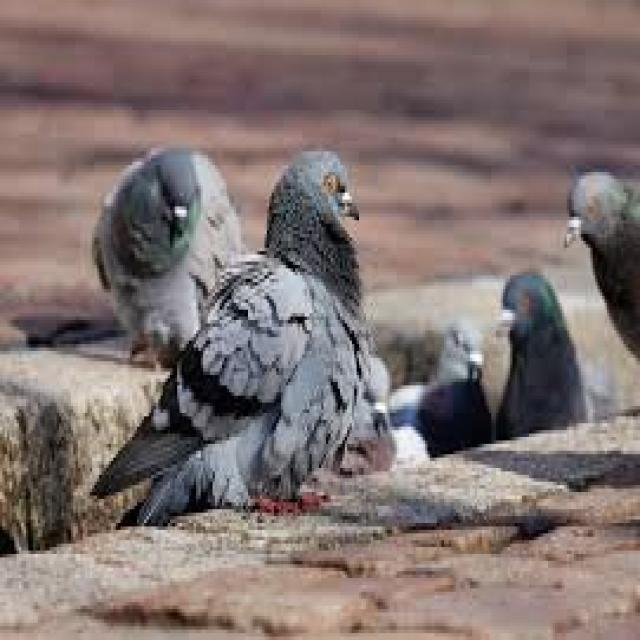Pigeon: (86, 148, 374, 543), (82, 136, 257, 365), (557, 162, 640, 364), (490, 264, 582, 442)
